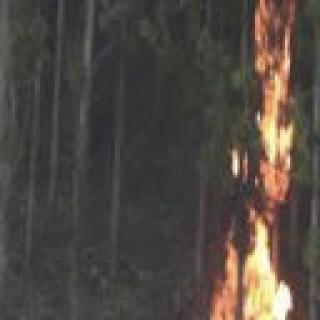fire: (169, 3, 320, 320)
